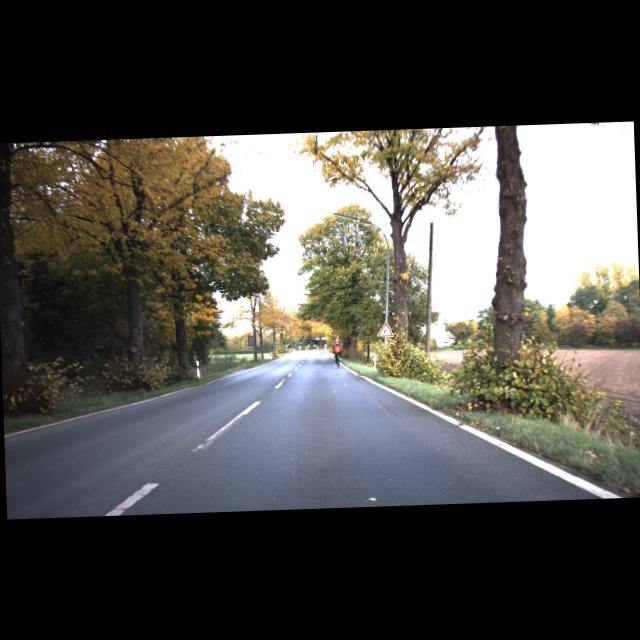danger: (376, 320, 394, 338)
